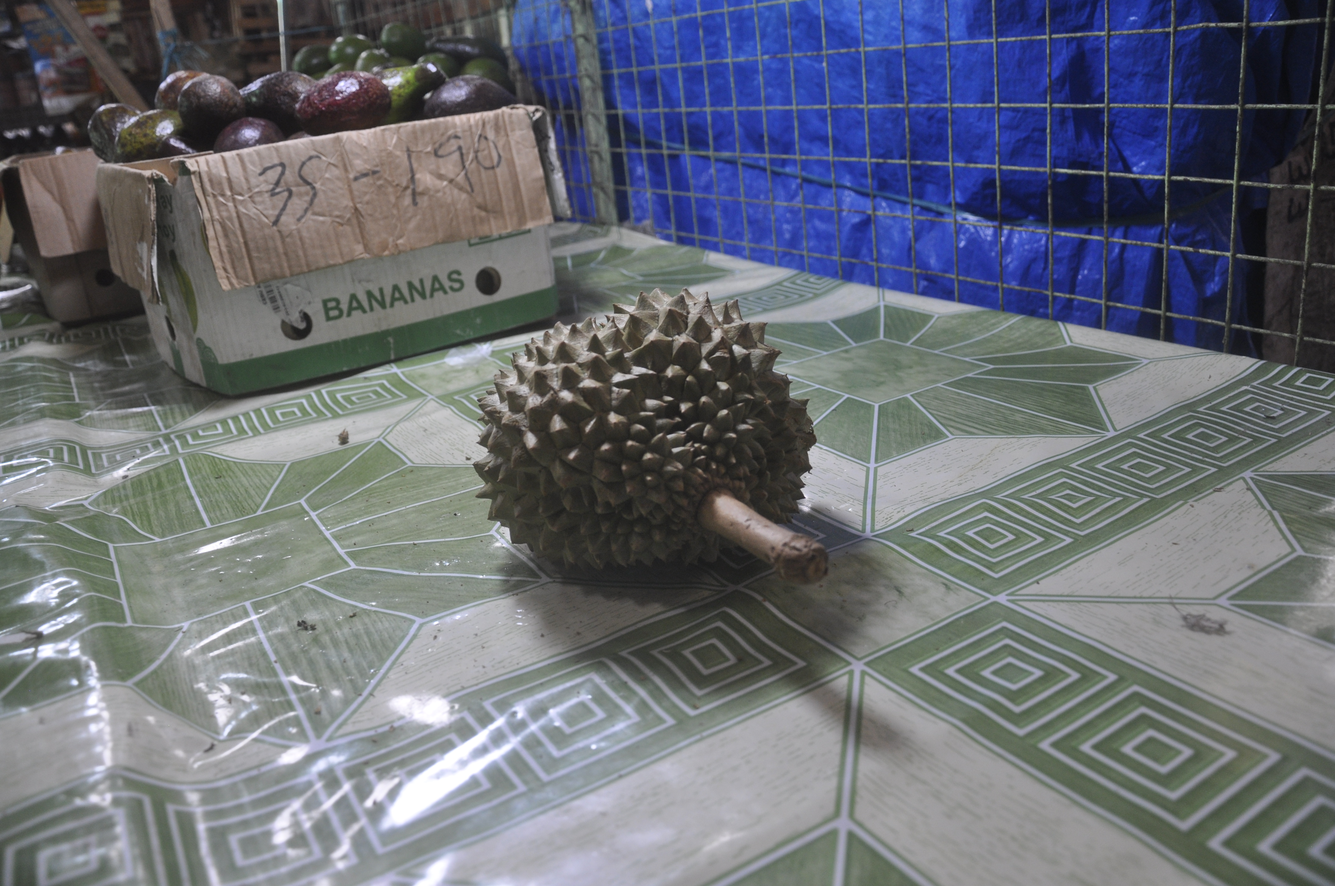mature: (475, 290, 826, 589)
